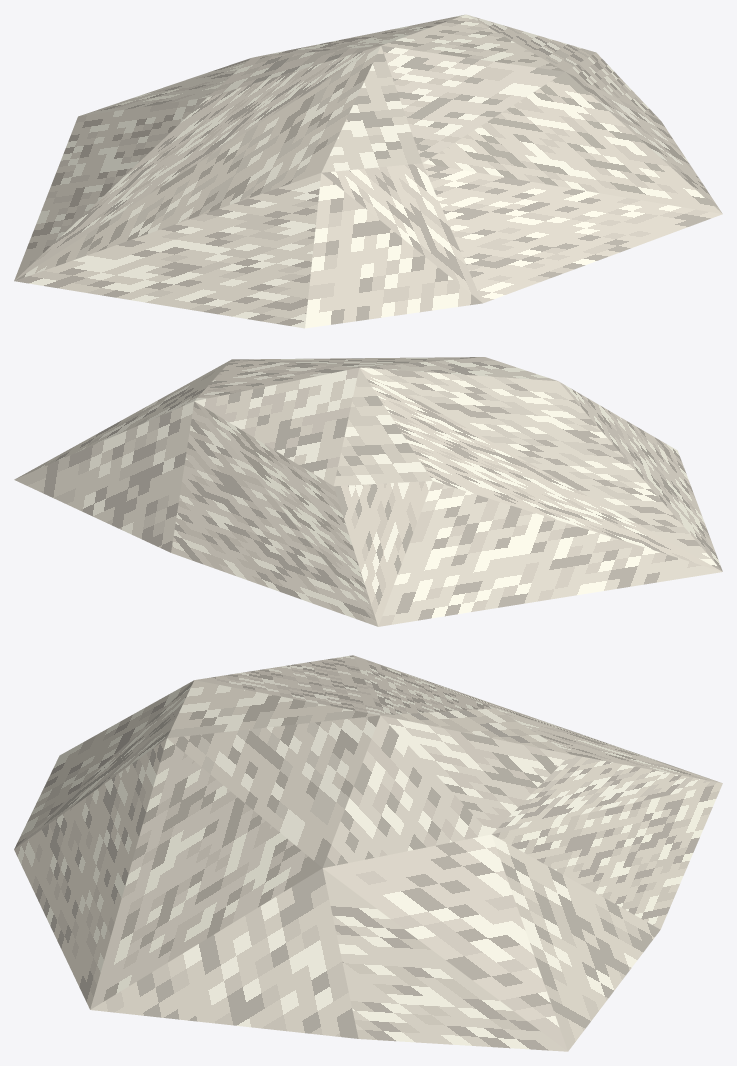
File: bread_flour.glb
3 views of the same model, one above another, from view 1: azimuth 30°, elevation 25°; view 2: azimuth 150°, elevation 25°; view 3: azimuth 270°, elevation 25° (orthographic). The views are drawn at different scales.
Visible parts, largest first — view 1: block_loose material; view 2: block_loose material; view 3: block_loose material.
Boxes of the visible parts, x1,y1,x2,y2 form: block_loose material: (14, 14, 722, 328); block_loose material: (14, 357, 722, 626); block_loose material: (14, 655, 722, 1051).
Size of the model in its own units: 0.0937 by 0.018 by 0.0708.
Materials: 1 (1 with a texture image).
